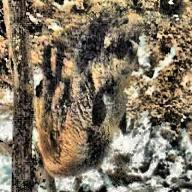boar: (11, 27, 153, 183)
